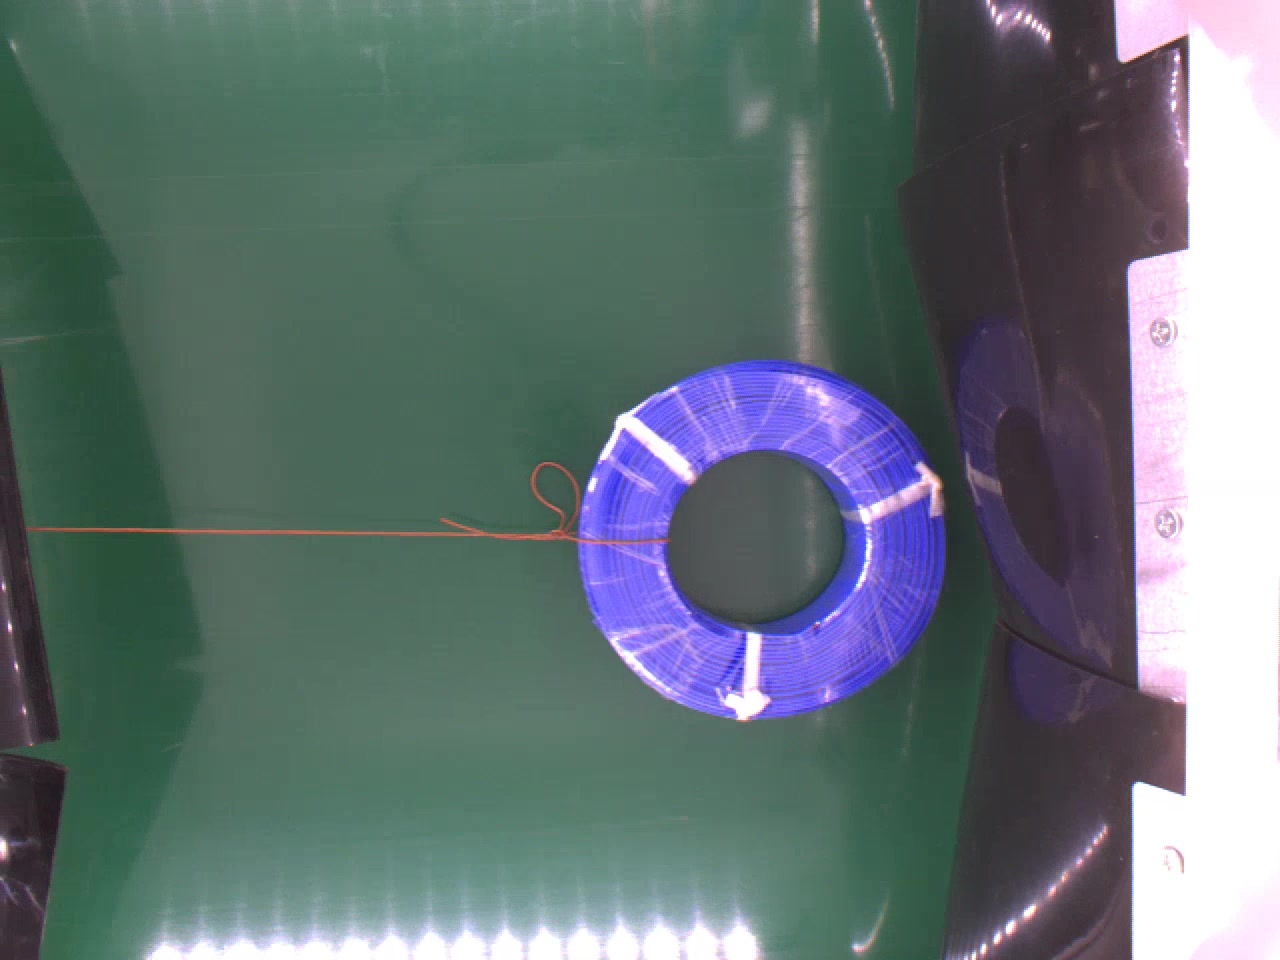blue: (575, 355, 953, 723)
